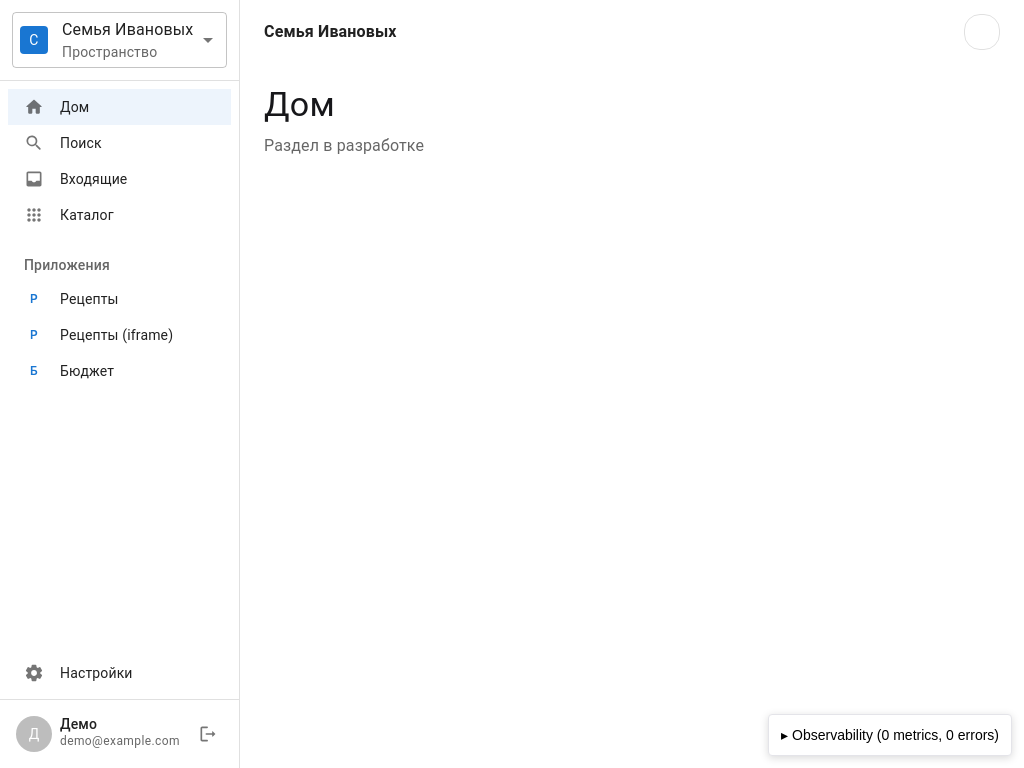
Test case: HostChrome › does not mount an app whose load finishes after the person left it
The width and height of the screenshot is (1024, 768).
Click the link "Р Рецепты" at (74, 299), box [30, 291, 119, 307]
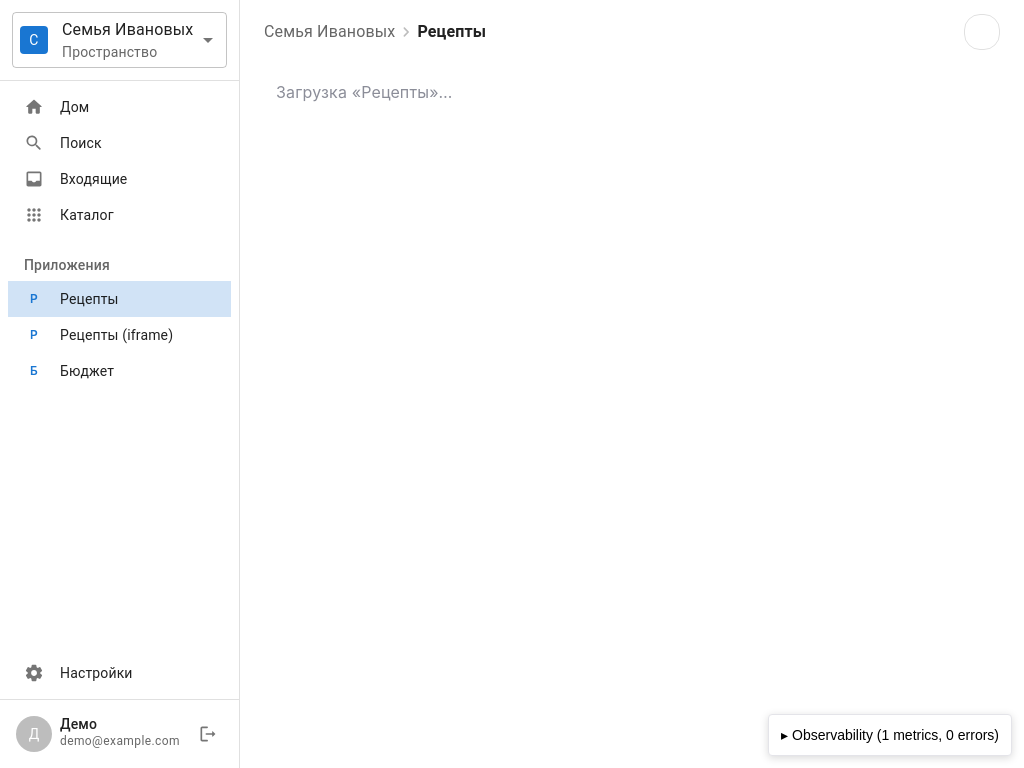
Click the link "Дом" at (34, 107), box [24, 97, 89, 117]
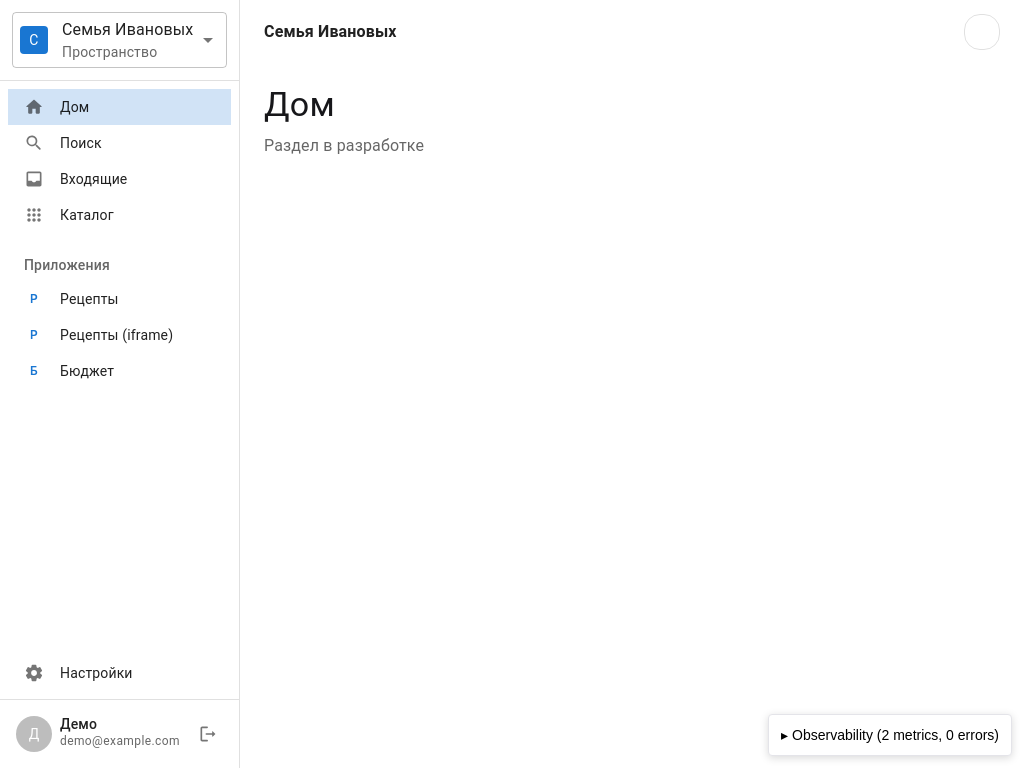
Check: the heading "Дом" is shown, box [264, 84, 335, 124]
